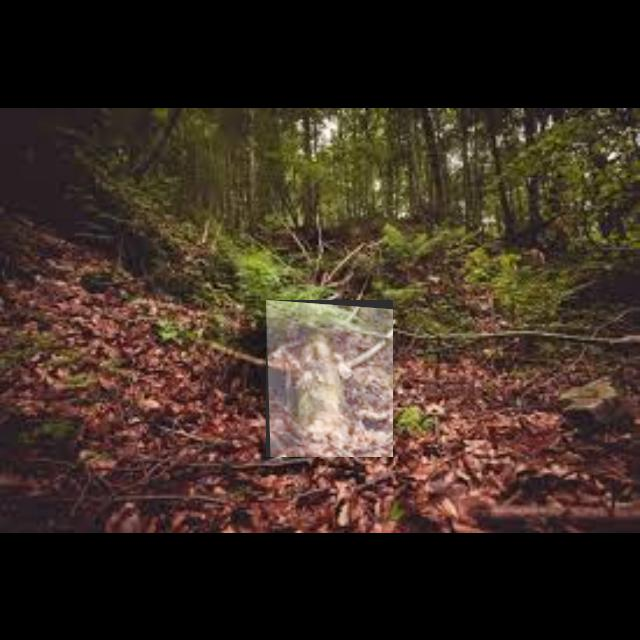Fallen Tree: (266, 300, 394, 458)
